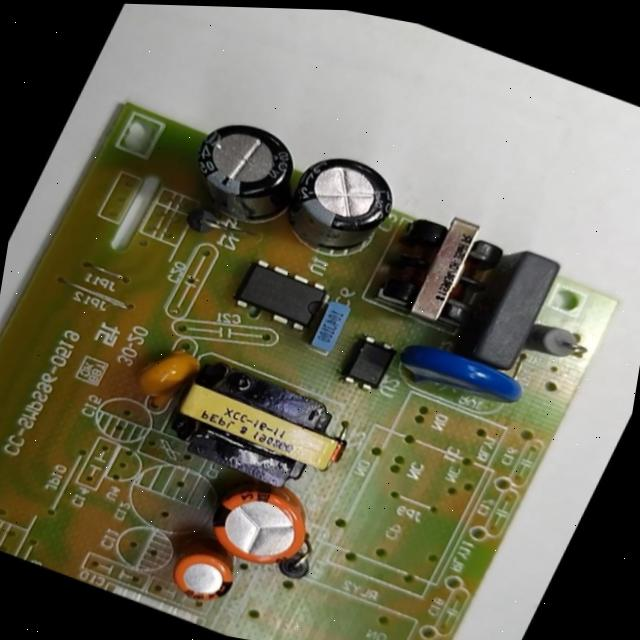Cap1: (181, 456, 334, 590)
Cap2: (145, 520, 264, 625)
Cap3: (262, 136, 419, 287)
Cap4: (165, 103, 332, 252)
MOSFET: (216, 245, 343, 350)
Mov: (379, 327, 538, 434)
Resistor: (519, 310, 600, 382)
Transformer: (138, 342, 372, 518), (357, 190, 529, 357)
